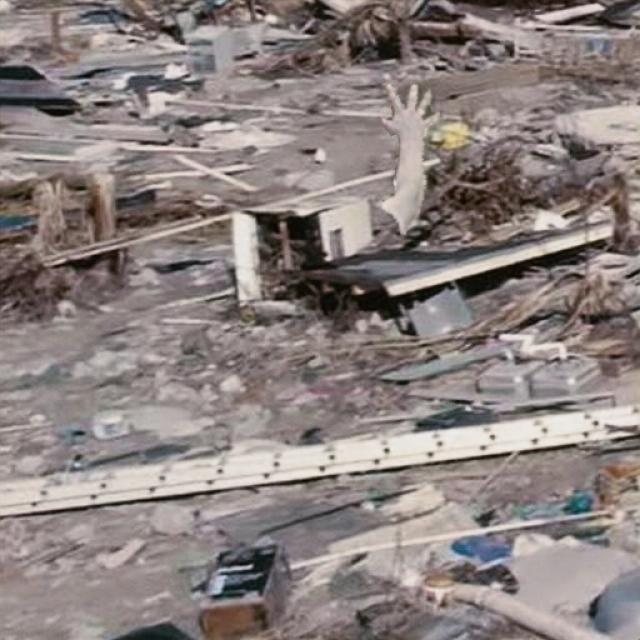Person in Rubble: (382, 84, 442, 232)
